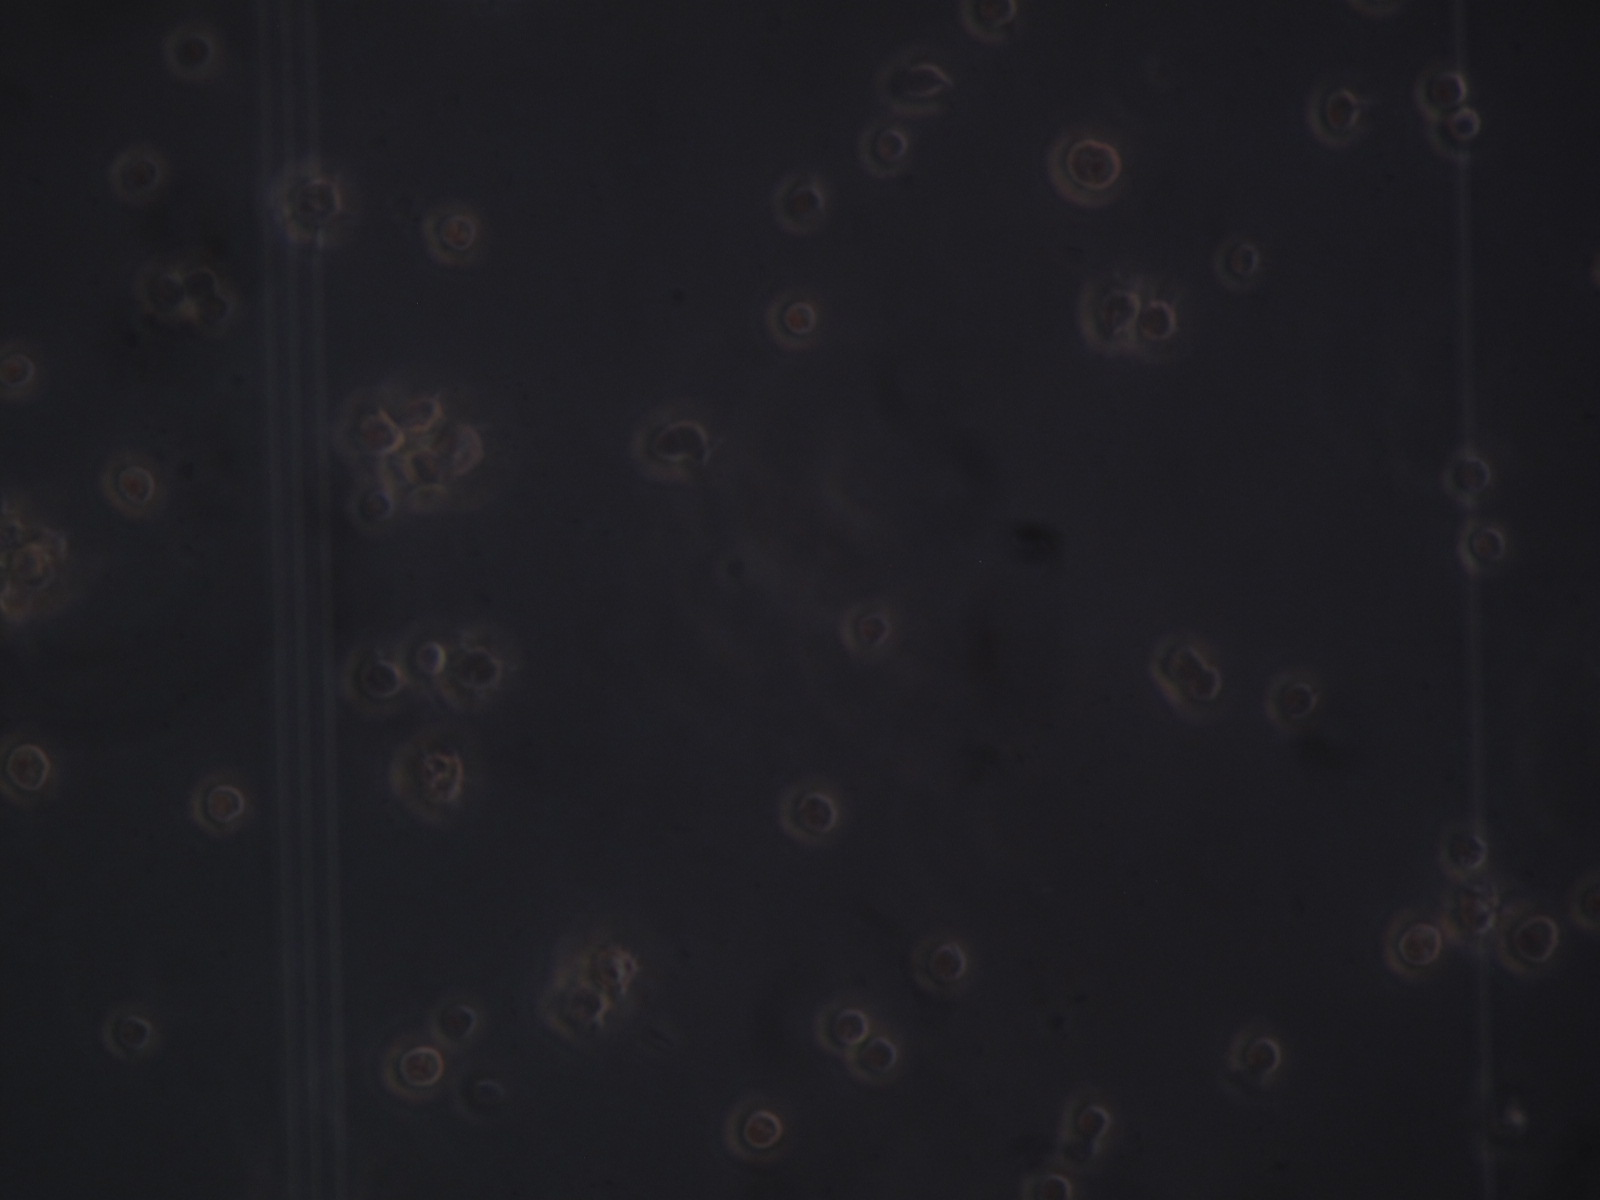hemo: (387, 737, 464, 822), (270, 166, 343, 246), (1046, 134, 1123, 208), (631, 410, 709, 480), (1077, 277, 1140, 353), (441, 420, 503, 495), (334, 395, 403, 460), (340, 645, 404, 716), (876, 54, 949, 116), (1497, 906, 1560, 977), (540, 979, 611, 1040), (443, 639, 503, 711), (1382, 911, 1443, 979), (382, 1039, 445, 1100), (724, 1099, 784, 1163), (779, 784, 839, 845), (1441, 885, 1497, 949), (1306, 82, 1361, 147), (422, 207, 480, 267), (1, 734, 50, 804), (452, 1063, 508, 1124), (100, 458, 157, 516), (190, 776, 247, 836), (911, 937, 968, 993), (401, 624, 447, 691), (1134, 294, 1177, 366), (1427, 106, 1482, 163), (1151, 637, 1204, 695), (774, 176, 826, 234), (766, 291, 818, 350), (815, 1001, 871, 1055), (578, 943, 635, 996), (1265, 674, 1318, 729), (1437, 823, 1489, 879), (858, 121, 910, 176), (164, 26, 217, 79), (110, 149, 164, 200), (1443, 450, 1493, 505), (136, 265, 186, 318), (102, 1008, 154, 1059), (348, 482, 397, 534), (1458, 521, 1507, 574), (396, 384, 443, 439), (401, 442, 449, 497), (842, 604, 892, 654), (1415, 66, 1468, 113), (430, 998, 480, 1047), (1231, 1030, 1283, 1078), (959, 1, 1018, 42), (850, 1036, 900, 1084), (1214, 237, 1260, 289), (1062, 1095, 1112, 1139), (1178, 666, 1222, 715), (1, 345, 37, 400), (190, 292, 236, 332), (1570, 874, 1600, 932), (181, 263, 220, 305), (1020, 1171, 1073, 1200), (1591, 248, 1600, 294)
